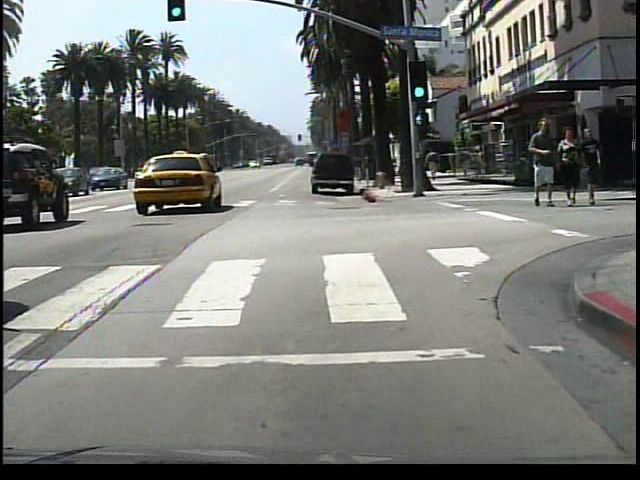person: (525, 117, 558, 211), (555, 127, 585, 213), (579, 125, 606, 209), (422, 143, 443, 184)
